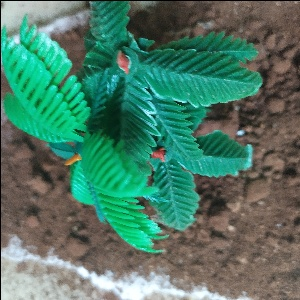plant: (1, 1, 270, 258)
